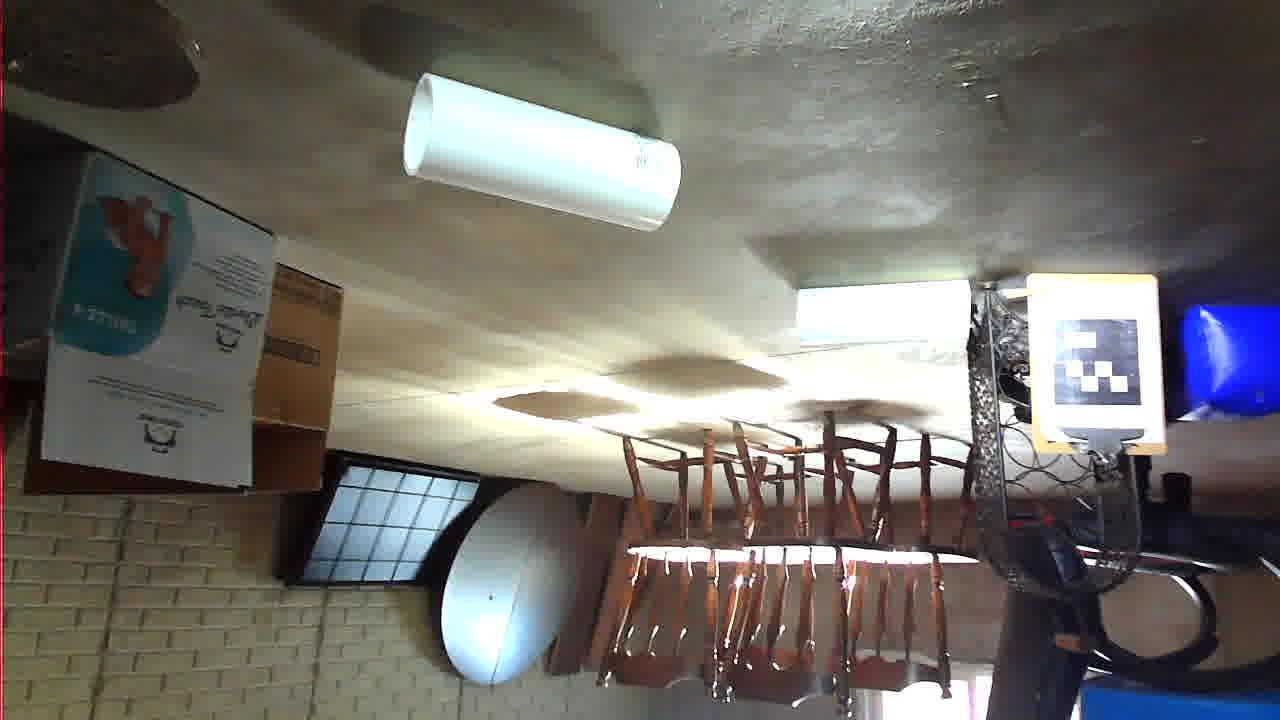coral: (599, 489, 877, 648), (309, 377, 483, 442)
